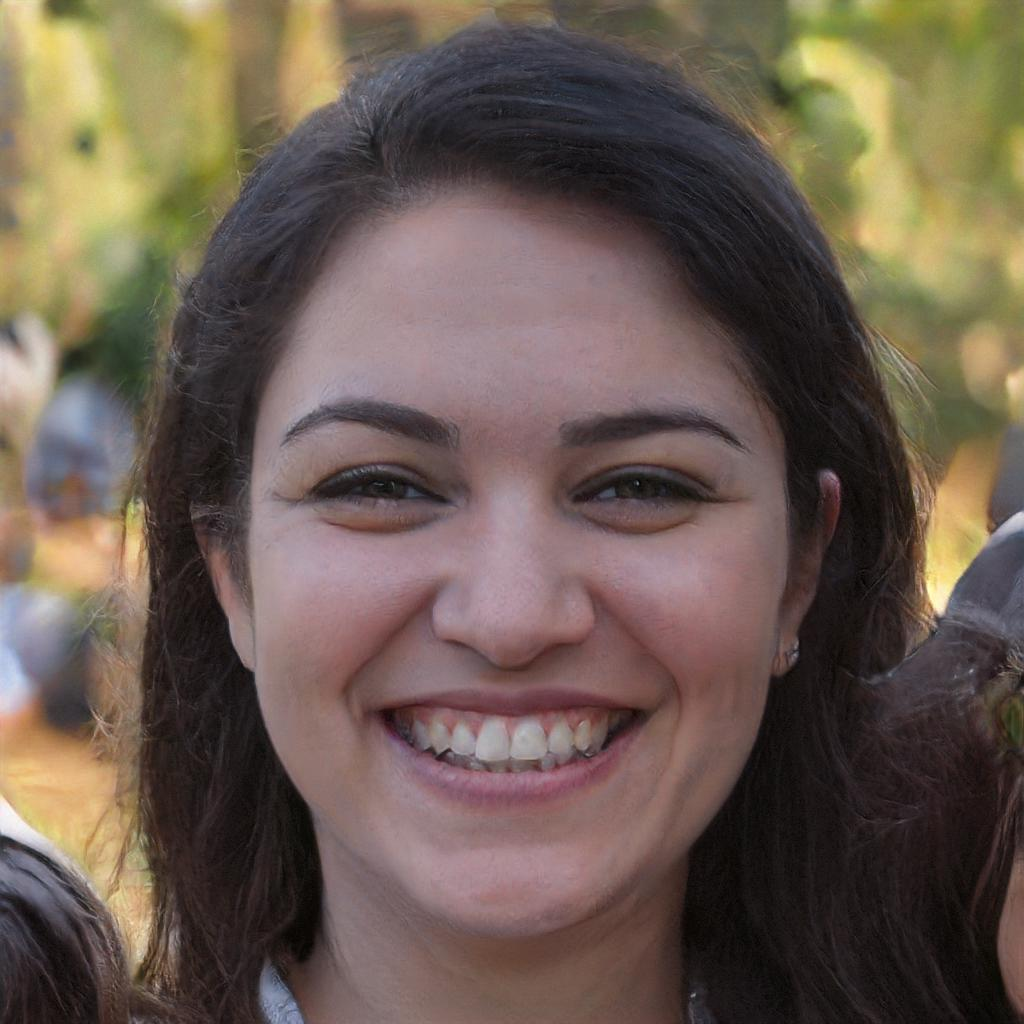face: (249, 184, 792, 938)
